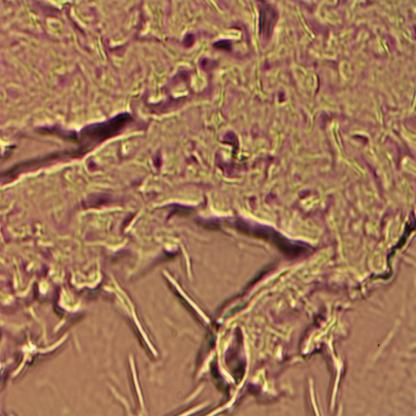Stage I: (0, 0, 416, 304)
